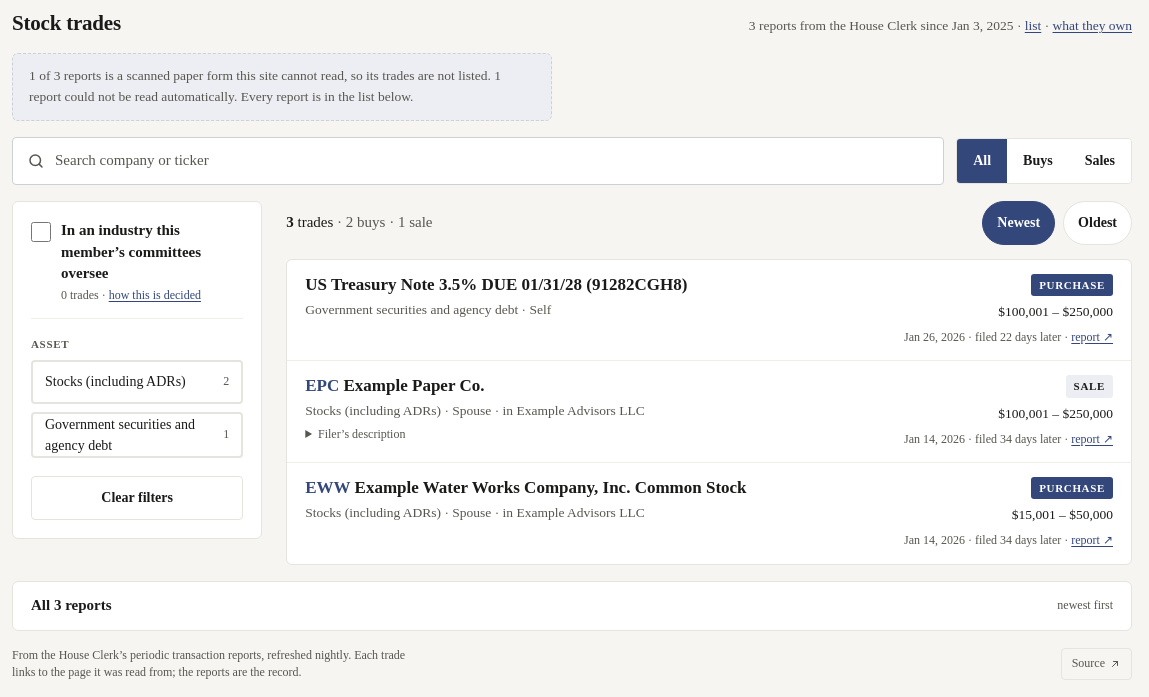
Test case: stock trades: filters › filters to buys or sales, and back
This screenshot has width=1149, height=697.
Step 1. Click the button "Sales" → (1100, 161), box [1069,139,1131,183]
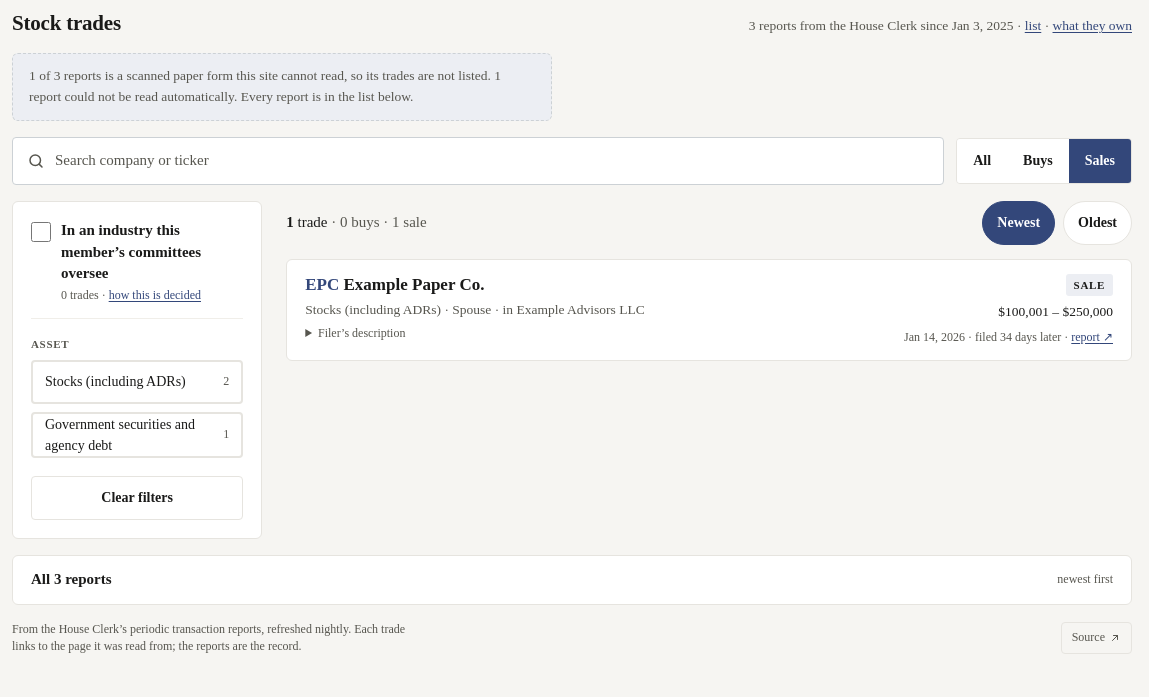
Expected: the number of list items is 1, [287,260,1131,360]
Expected: the message reads "1 trade · 0 buys · 1 sale", [286,212,427,234]
Step 2. Click the button "Buys" → (1038, 161), box [1007,139,1069,183]
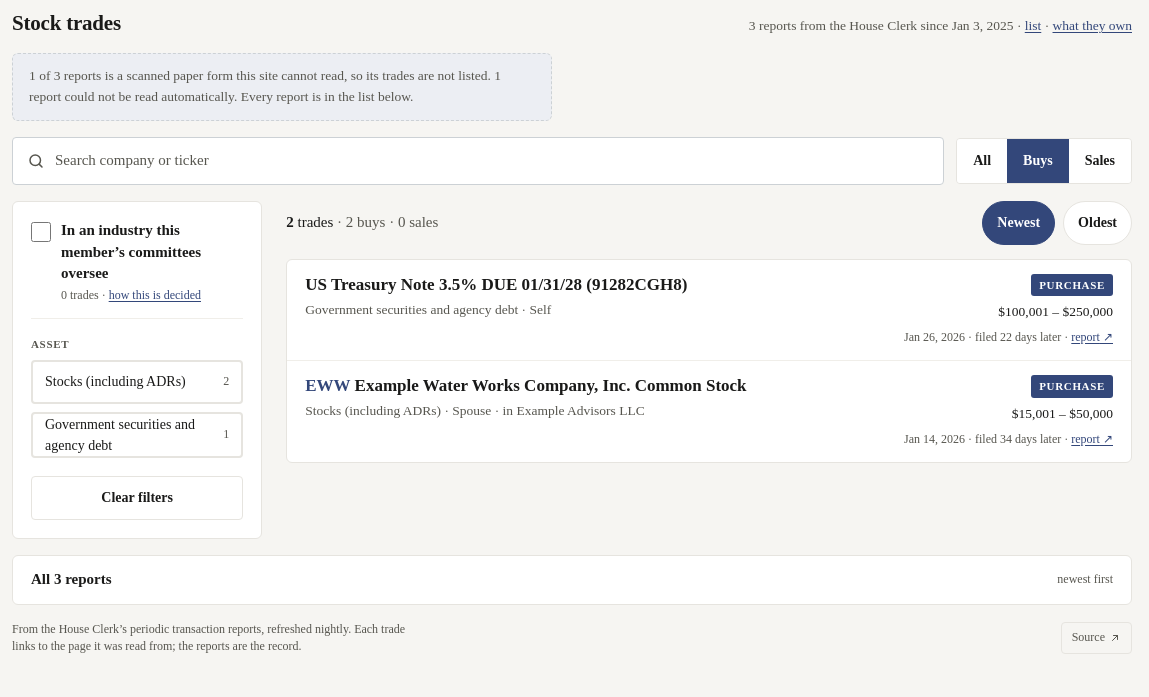
Expected: the number of list items is 2, [287,260,1131,361]; [287,361,1131,462]
Step 3. Click the button "All" → (982, 161), box [957,139,1007,183]
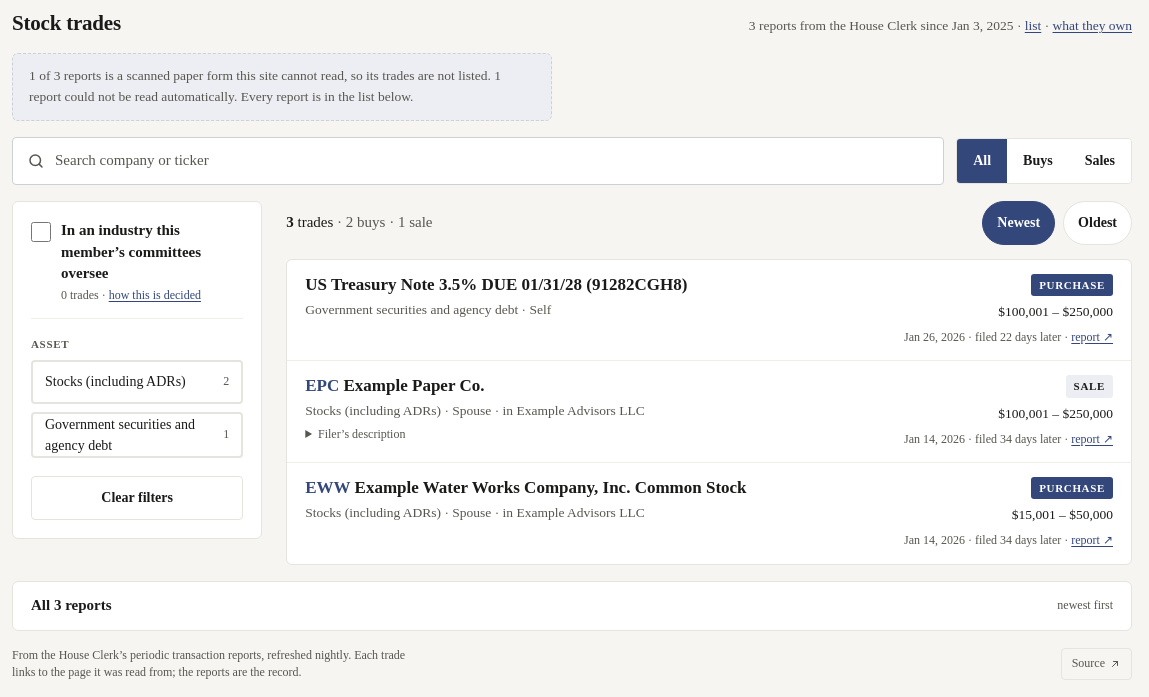
Expected: the number of list items is 3, [287,260,1131,361]; [287,361,1131,463]; [287,463,1131,564]
